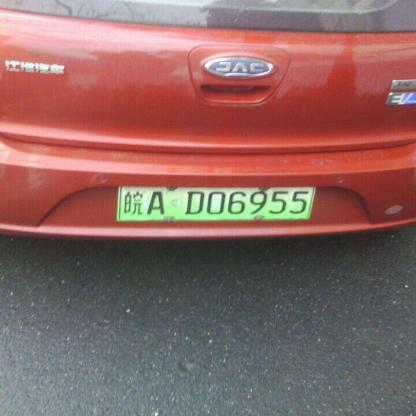lp: (120, 186, 316, 219)
